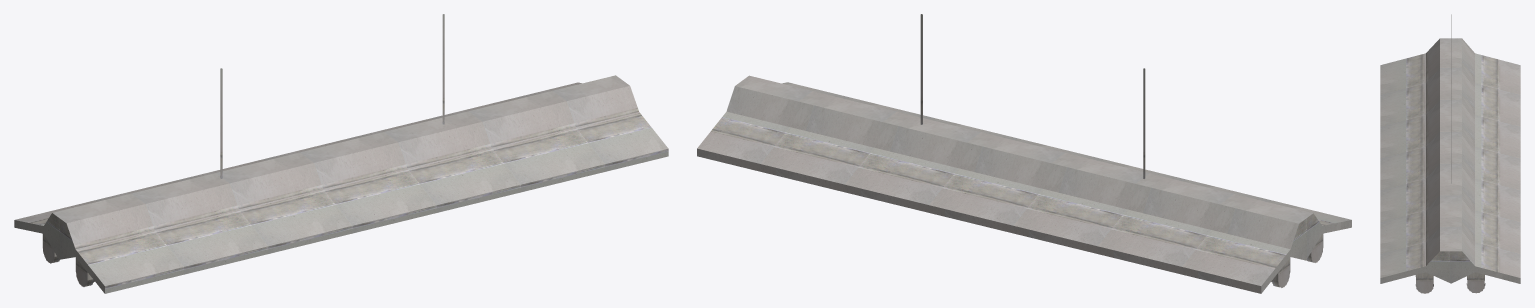
The model's file is off_fluorescentLight_lod3.fbx.
The picture shows the model from 3 angles, left to right: view 1: azimuth 30°, elevation 25°; view 2: azimuth 150°, elevation 25°; view 3: azimuth 270°, elevation 25°; orthographic projection. The views are drawn at different scales.
Parts seen in each view (by area): view 1: cover, hangs, caps; view 2: cover, hangs, caps; view 3: cover, caps, hangs.
Boxes of the visible parts, bbox=[...] form: cover: bbox=[14, 75, 668, 293]; hangs: bbox=[220, 14, 444, 178]; caps: bbox=[42, 233, 94, 286]; cover: bbox=[697, 75, 1351, 293]; hangs: bbox=[920, 14, 1145, 178]; caps: bbox=[1271, 233, 1323, 287]; cover: bbox=[1380, 38, 1520, 283]; caps: bbox=[1415, 272, 1485, 293]; hangs: bbox=[1451, 14, 1451, 183].
Size of the model in its own units: 15.22 by 4.34 by 4.23.
